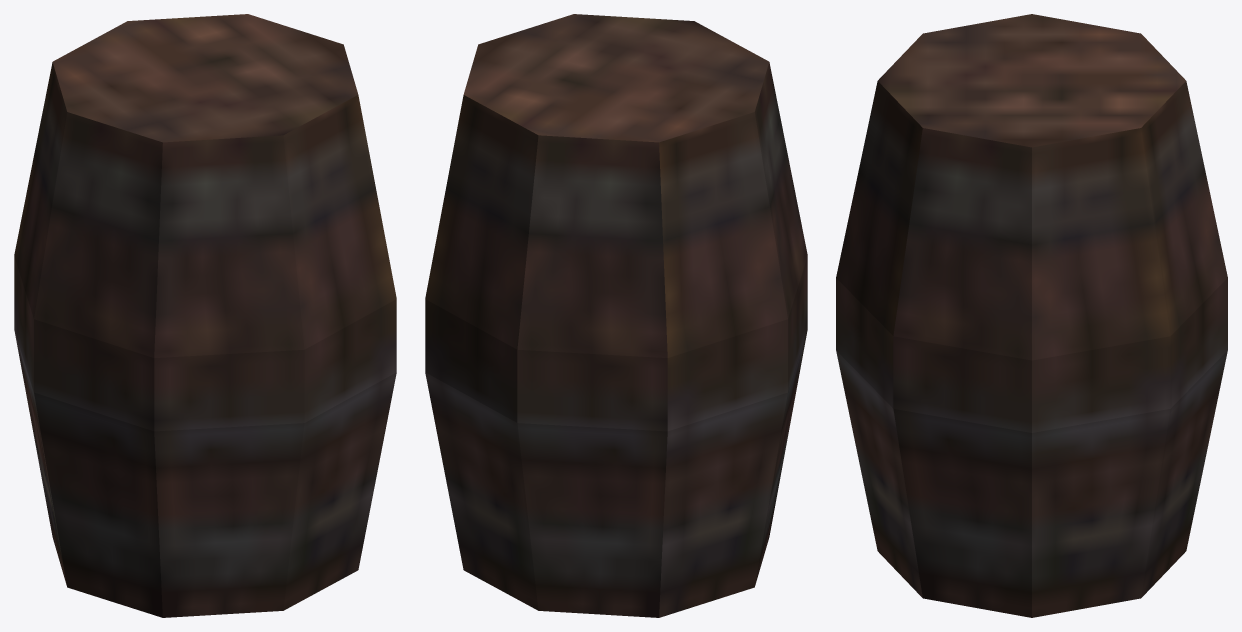
The model's file is ob-b1-005-woodbarrel_01.glb.
The picture shows the model from 3 angles, left to right: view 1: azimuth 30°, elevation 25°; view 2: azimuth 150°, elevation 25°; view 3: azimuth 270°, elevation 25°; orthographic projection.
Parts seen in each view (by area): view 1: woodbarrel; view 2: woodbarrel; view 3: woodbarrel.
Part boxes in pixels (bbox=[...]): woodbarrel: bbox=[14, 14, 396, 617]; woodbarrel: bbox=[425, 14, 807, 617]; woodbarrel: bbox=[836, 14, 1227, 617].
Bounding box in the file's own units: 0.7553 × 1 × 0.7553.
Materials: 1 (1 with a texture image).
